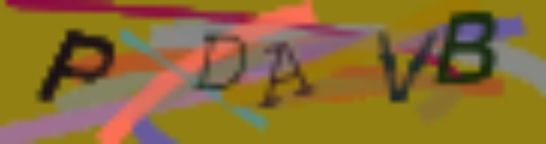A: (254, 39, 315, 113)
B: (438, 8, 507, 91)
D: (191, 30, 250, 94)
P: (34, 23, 116, 105)
V: (371, 27, 442, 104)
